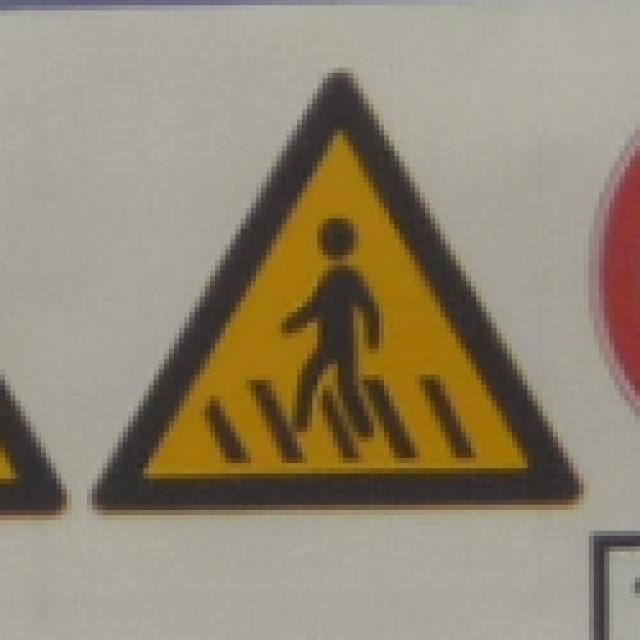Crossing: (86, 61, 590, 521)
